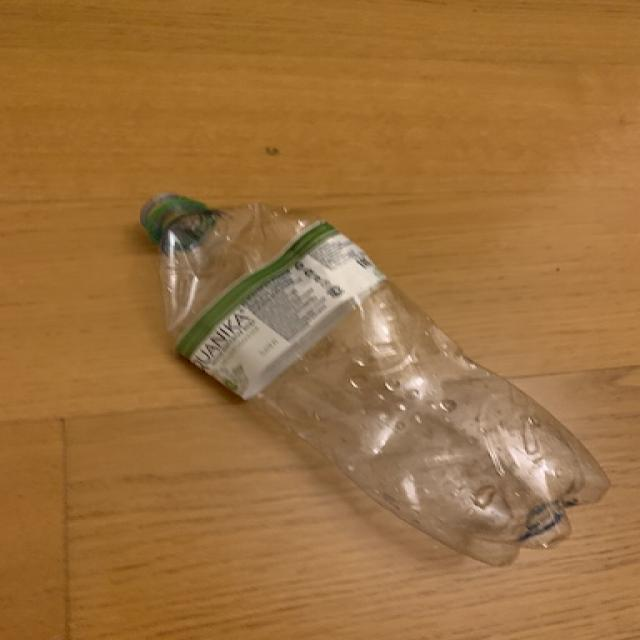bottle: (140, 193, 615, 575)
